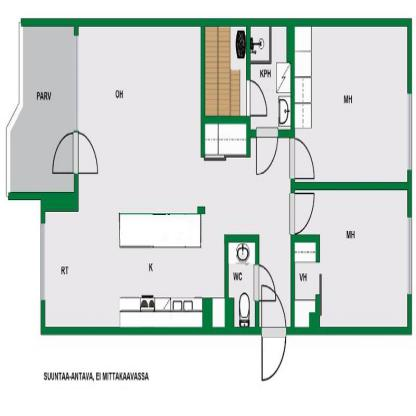door: (260, 280, 286, 381), (48, 128, 99, 178), (287, 190, 318, 236), (286, 137, 316, 182), (254, 125, 279, 175), (252, 264, 278, 304), (244, 79, 268, 122)
window: (406, 94, 414, 171), (406, 219, 412, 294), (40, 222, 44, 299)
zone: (79, 25, 201, 330), (203, 124, 293, 324), (292, 27, 407, 182), (295, 190, 408, 332), (8, 24, 76, 190), (205, 26, 248, 153), (249, 27, 292, 128), (44, 210, 80, 328)
